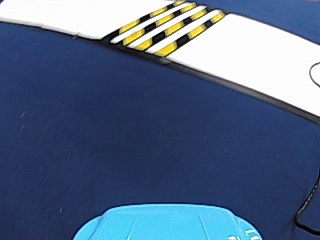bump: (103, 3, 203, 58)
